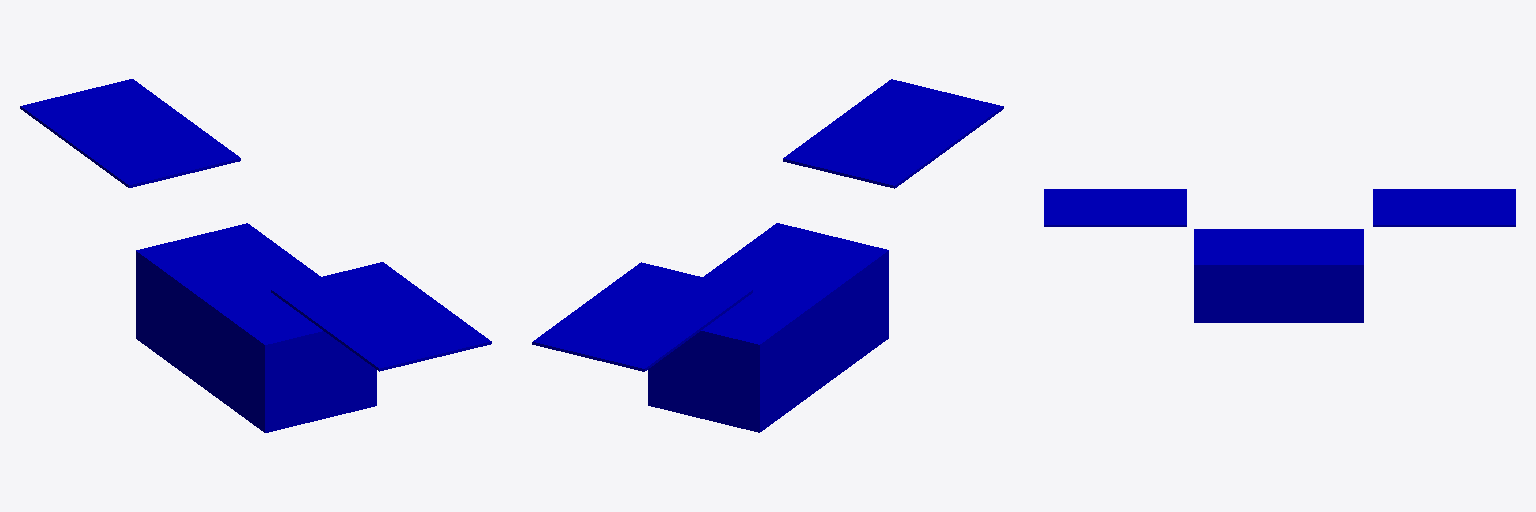
robot.urdf — rampa:
<?xml version="1.0"?>

<robot name="rampa">

    <material name="blue">
        <color rgba="0 0 0.8 1" />
    </material>

    <link name="body_rampa">

        <inertial>
            <origin xyz="5 0 0.1" />
            <mass value="100.0" />
            <inertia ixx="1.0" ixy="0.0" ixz="0.0"
            iyy="1.0" iyz="0.0" izz="1.0" />

        </inertial>
        <visual>        
            <origin xyz="5 0 0.1" />
            <geometry>
                <box size="2 4 1.5" />
            </geometry>
            <material name="blue"/>
        </visual>

        <collision>
            <origin xyz="5 0 0.1" />
            <geometry>
             <box size="2 4 1.5" />
            </geometry>
        </collision>

    </link>

    <link name="rampa_front">

        <inertial>
            <origin xyz="5 -4 0.1" />
            <mass value="100.0" />
            <inertia ixx="1.0" ixy="0.0" ixz="0.0"
            iyy="1.0" iyz="0.0" izz="1.0" />

        </inertial>
        <visual>        
            <origin xyz="5 -4 0.1" />
            <geometry>
                <box size="2 3.354101966 0.05" />
            </geometry>
            <material name="blue"/>
        </visual>

        <collision>
            <origin xyz="5 -4 0.1" />
            <geometry>
             <box size="2 3.354101966 0.05" />
            </geometry>
        </collision>
    </link>

    <link name="rampa_back">

        <inertial>
            <origin rpy="0 0 0" xyz="5 4 0.1" />
            <mass value="100.0" />
            <inertia ixx="1.0" ixy="0.0" ixz="0.0"
            iyy="0.0" iyz="1.0" izz="0.0" />

        </inertial>
        <visual>        
            <origin rpy="0 0 0" xyz="5 4 0.1" />
            <geometry>
                <box size="2 3.354101966 0.05" />
            </geometry>
            <material name="blue"/>
        </visual>

        <collision>
            <origin rpy="0 0 0" xyz="5 4 0.1" />
            <geometry>
             <box size="2 3.354101966 0.05" />
            </geometry>
        </collision>

    </link>

    <joint name="front_to_body" type="revolute">
        <parent link="body_rampa" />
        <child link="rampa_front" />
        <dynamics damping="0.0" friction="0.00001" />
        <origin xyz="0 0.15 1.75" />
        <axis xyz="1 0 0" />

        <limit lower="-2" upper="2" effort="10.0" velocity="0.5" />
    </joint>

    <joint name="back_to_body" type="revolute">
        <parent link="body_rampa" />
        <child link="rampa_back" />
        <dynamics damping="0.0" friction="0.00001" />
        <origin xyz="0 -0.12 1.75" />
        <axis xyz="1 0 0" />

        <limit lower="-2" upper="2" effort="10.0" velocity="0.5" />
    </joint>

</robot>

--- Render facts (derived) ---
The picture shows the robot from 3 angles, left to right: view 1: azimuth 30°, elevation 25°; view 2: azimuth 150°, elevation 25°; view 3: azimuth 270°, elevation 25°; orthographic projection.
Robot: rampa — 3 links, 2 joints (2 revolute); root link body_rampa; default pose: every joint at zero.
Links seen in each view (by area): view 1: body_rampa, rampa_front, rampa_back; view 2: body_rampa, rampa_front, rampa_back; view 3: body_rampa, rampa_front, rampa_back.
Link boxes in pixels (<box>): body_rampa: <box>136,223,376,432</box>; rampa_front: <box>271,262,491,371</box>; rampa_back: <box>20,79,240,187</box>; body_rampa: <box>648,223,888,432</box>; rampa_front: <box>783,79,1003,188</box>; rampa_back: <box>532,262,752,371</box>; body_rampa: <box>1194,229,1363,322</box>; rampa_front: <box>1044,189,1186,226</box>; rampa_back: <box>1373,189,1515,226</box>.
Size in the robot's own frame: 2 by 11.08 by 2.52 metres.
Geometry: primitives only (box / cylinder / sphere), no mesh files.